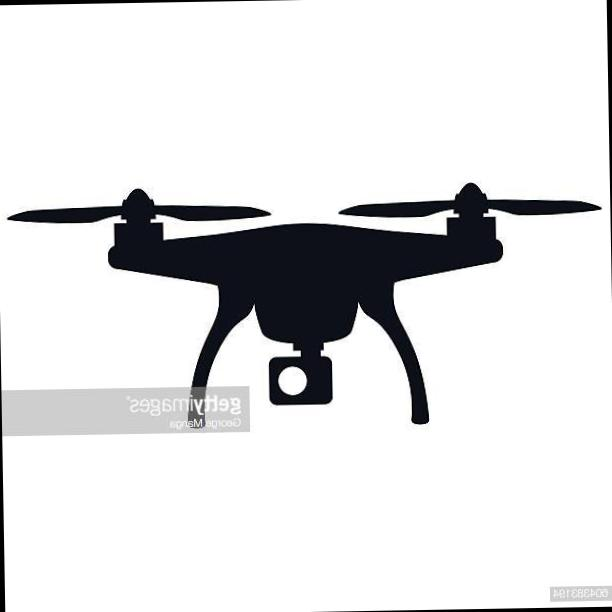drone: (0, 168, 602, 371)
